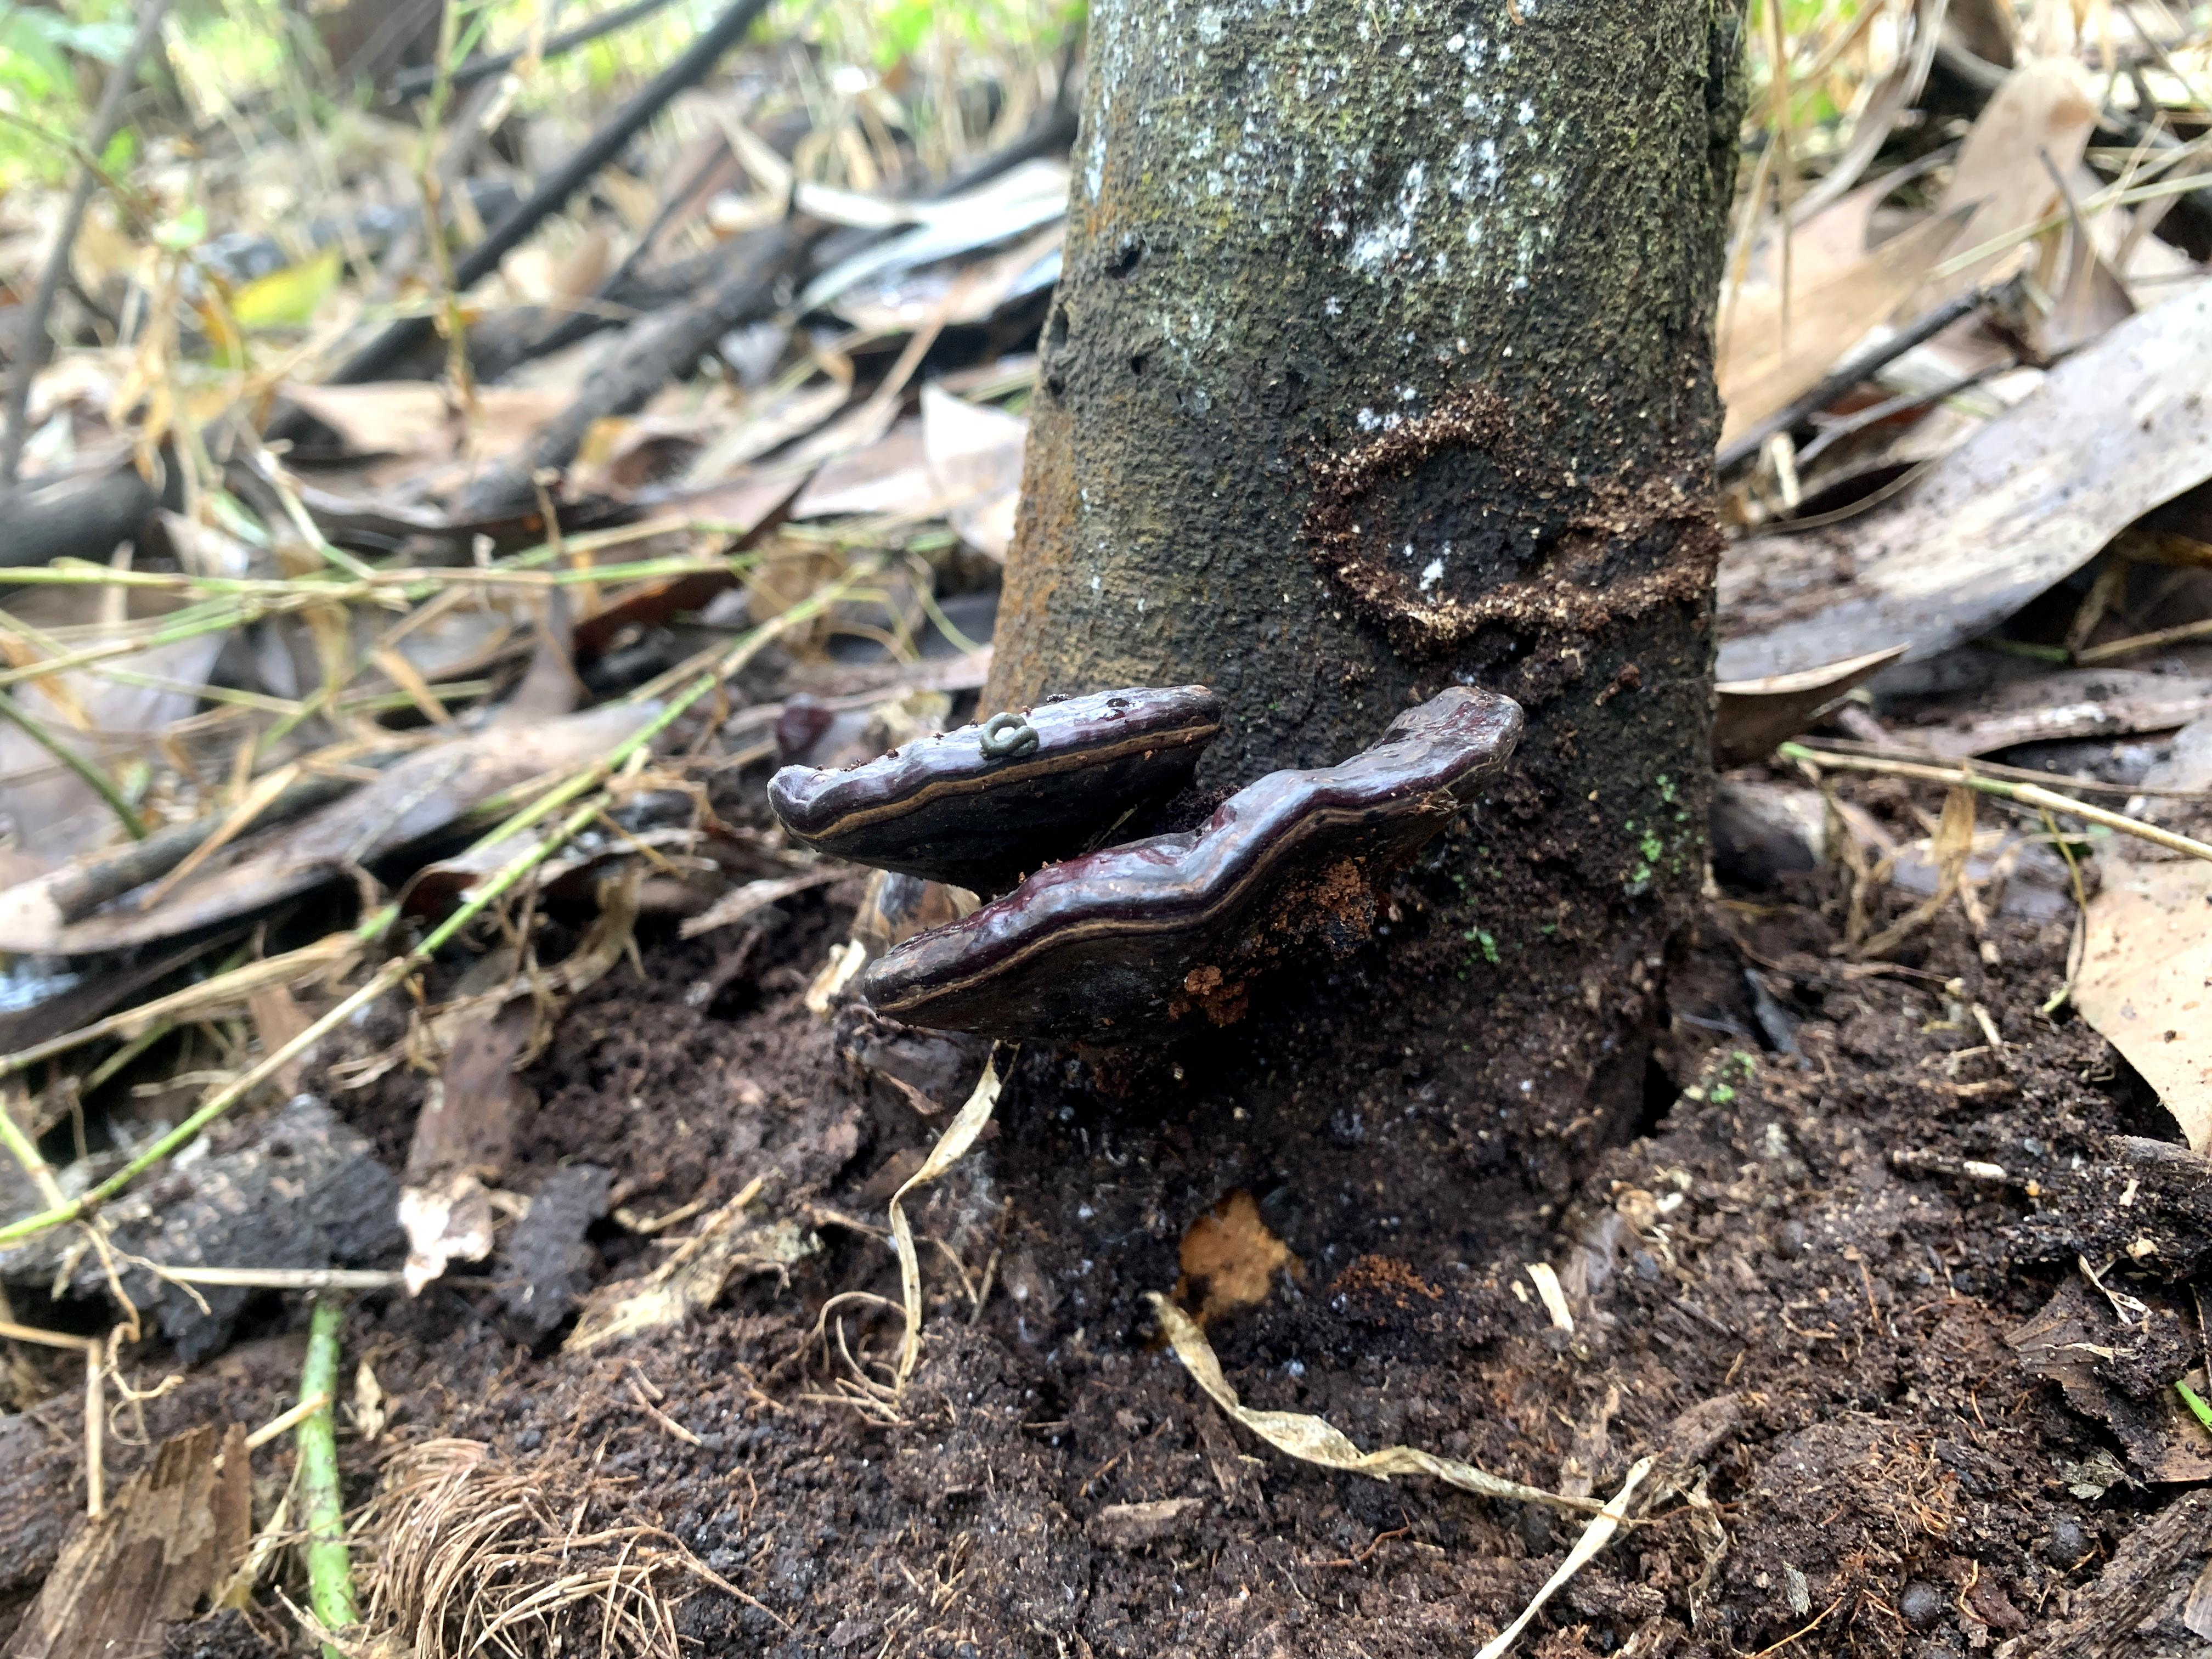Ganoderma - Fruit Body: (859, 688, 1534, 1049), (742, 683, 1228, 868)
Termite - Nest: (1298, 387, 1731, 650)
